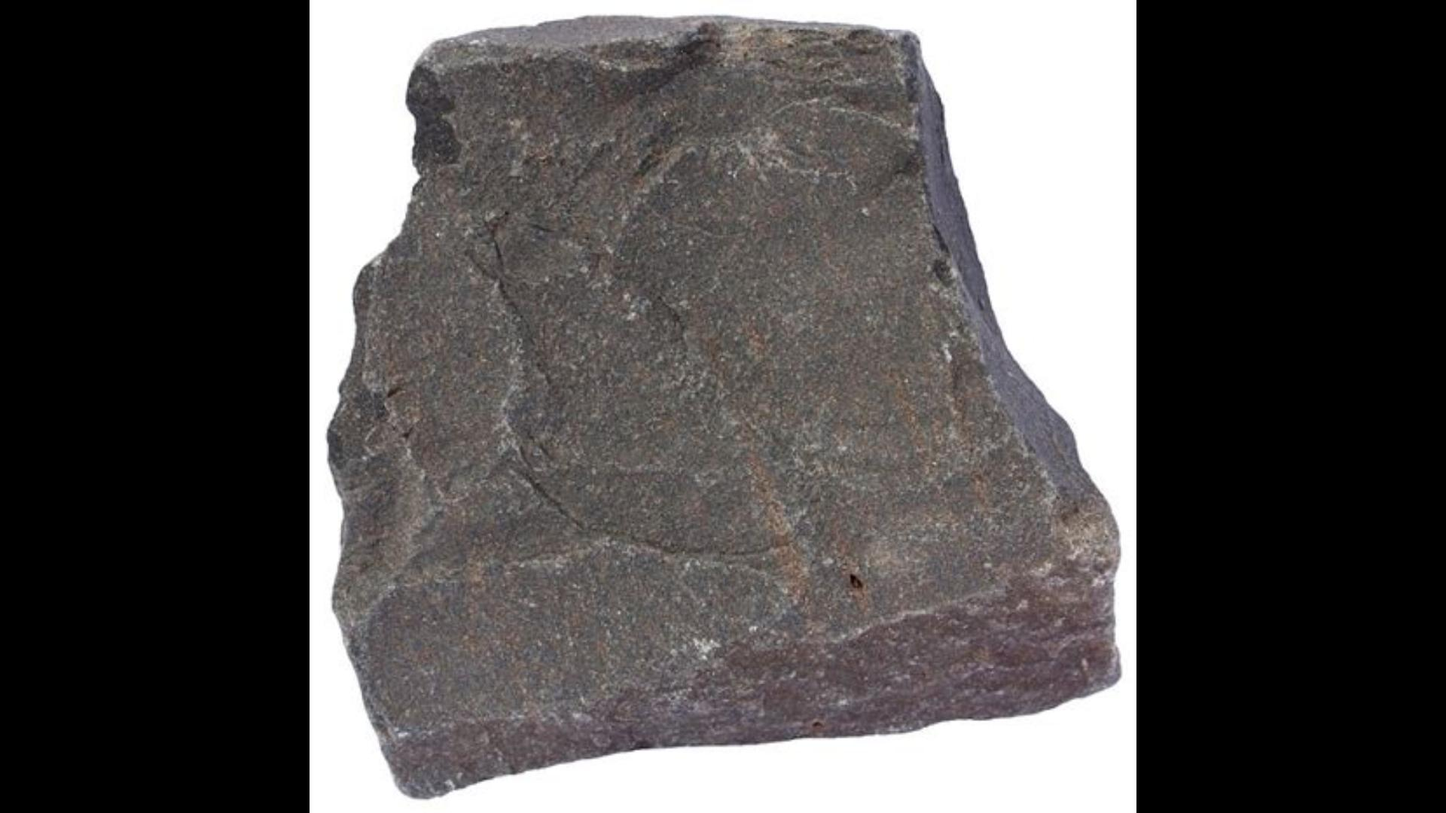rock: (329, 17, 1116, 790)
